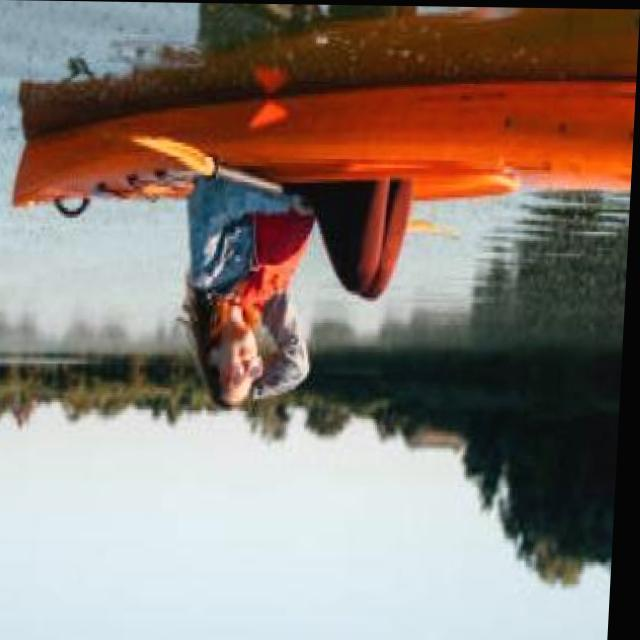kayak: (15, 78, 637, 207)
